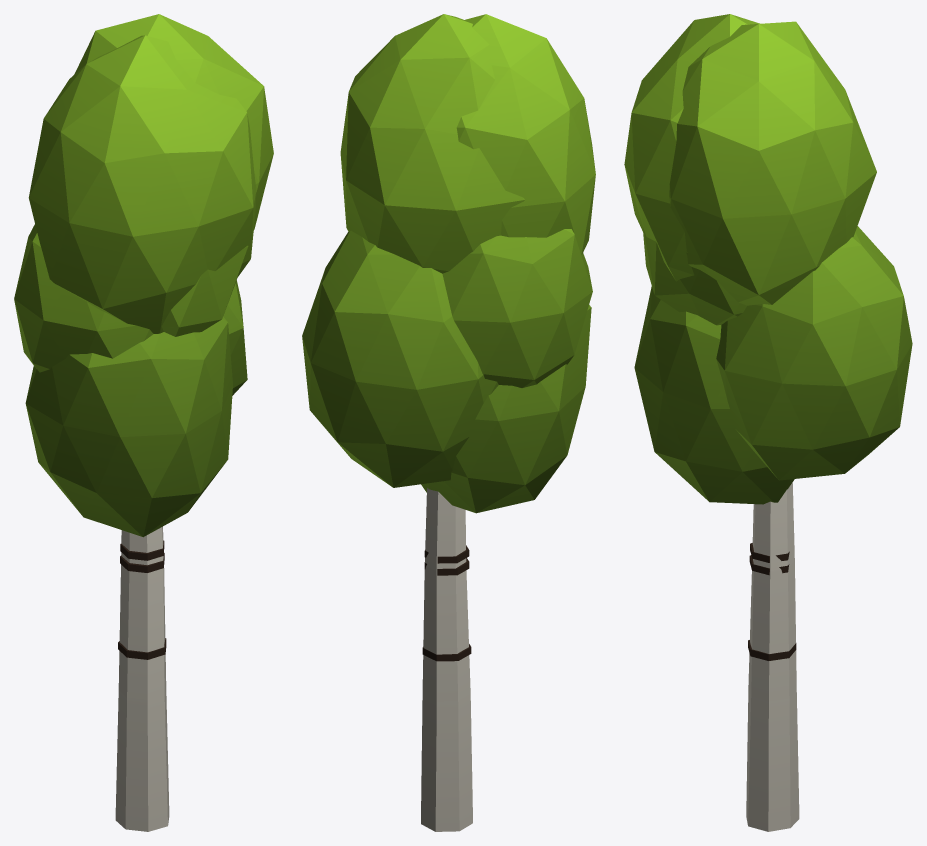
Rendered from tree_birch_01.glb.
The picture shows the model from 3 angles, left to right: view 1: azimuth 30°, elevation 25°; view 2: azimuth 150°, elevation 25°; view 3: azimuth 270°, elevation 25°; orthographic projection.
Parts seen in each view (by area): view 1: tree_birch_01_LOD0; view 2: tree_birch_01_LOD0; view 3: tree_birch_01_LOD0.
Part boxes in pixels (box(x1,y1,x2,y2)): tree_birch_01_LOD0: box(14, 14, 273, 831); tree_birch_01_LOD0: box(302, 14, 595, 831); tree_birch_01_LOD0: box(624, 14, 912, 831).
Size of what is drawn, in the model's own units: 1.45 by 4.83 by 1.57.
Materials: 1 (1 with a texture image).
